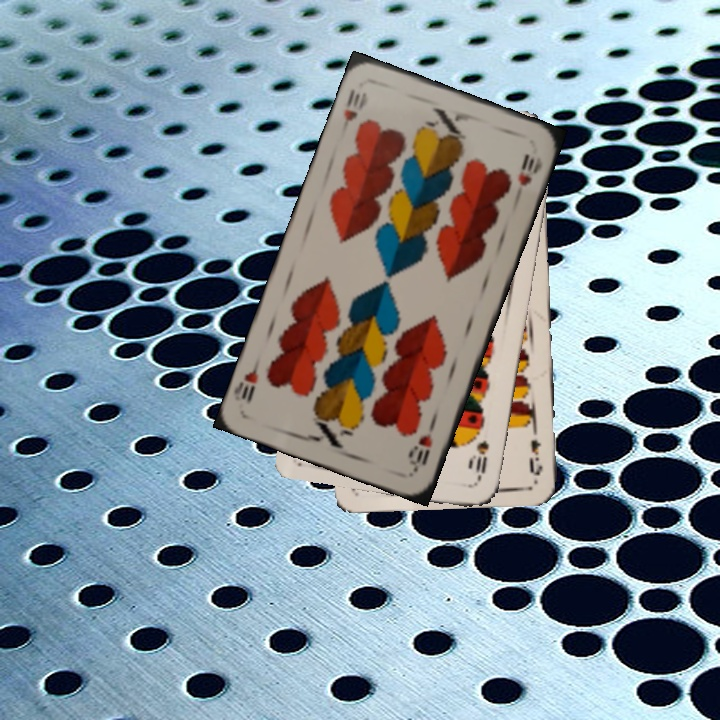E9: (525, 423, 545, 478)
H10: (406, 416, 439, 474), (336, 85, 371, 137)
S10: (468, 436, 492, 485)
